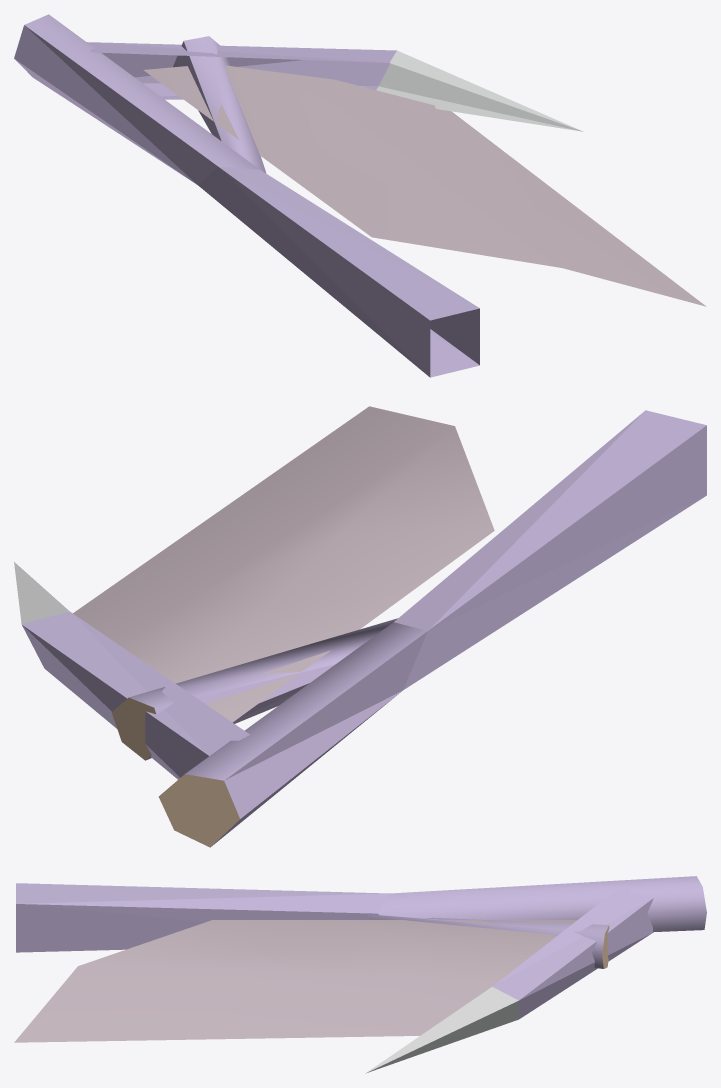
3 views of the same model, one above another, from view 1: azimuth 30°, elevation 25°; view 2: azimuth 150°, elevation 25°; view 3: azimuth 270°, elevation 25° (orthographic). The views are drawn at different scales.
Visible parts, largest first — view 1: Object34; view 2: Object34; view 3: Object34.
Part boxes in pixels (x1,y1,x2,y2): Object34: (14, 14, 706, 377); Object34: (14, 406, 706, 847); Object34: (14, 876, 706, 1073).
Bounding box in the file's own units: 14126 × 2262 × 26371.
